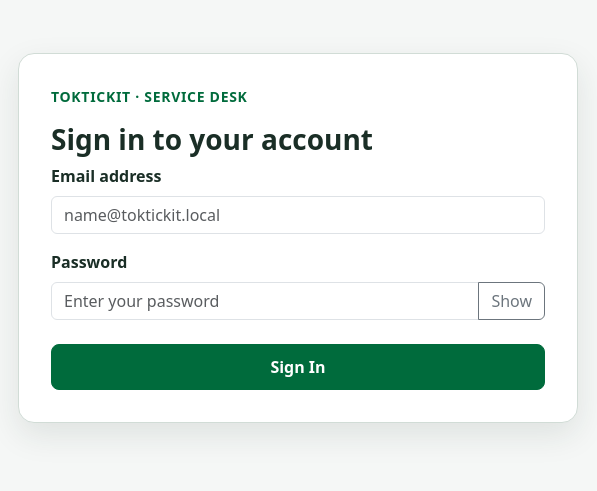
Scenario: Login Component (Work Item 3) › shows deactivated account alert when account is inactive
Type "inactive@toktickit.local" into the field labelled "Email address" at point(298, 215), box [51,196,545,234]
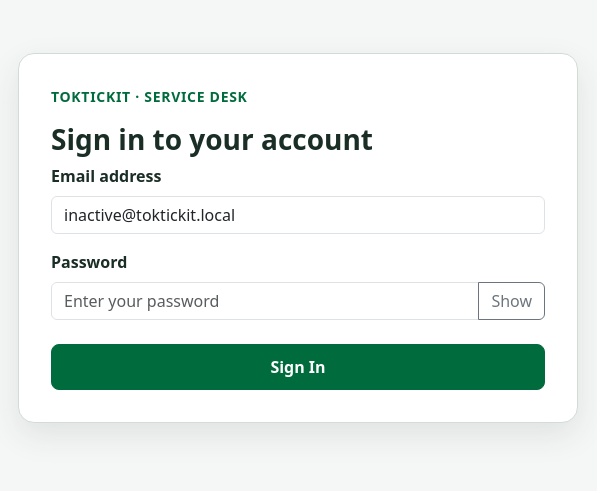
Type "Password123!" into the password field labelled "Password" at point(265, 301), box [51,282,479,320]
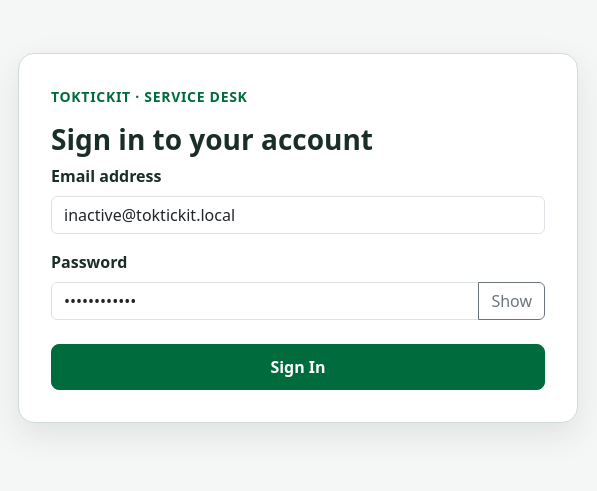
Click the button "Sign In" at point(298, 367), box [51,344,545,390]
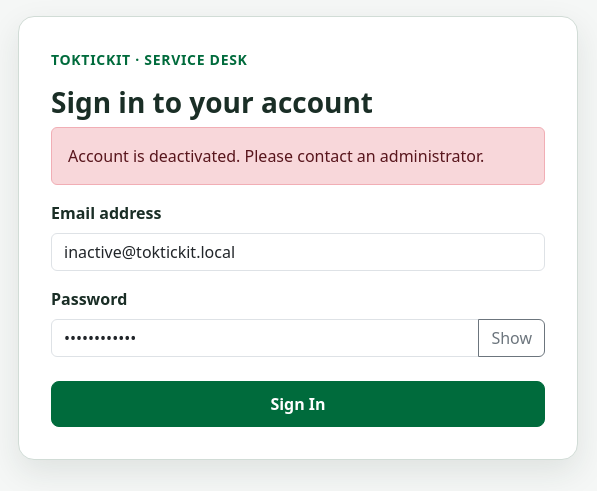
Now the message shows "Account is deactivated", box [68,145,484,167]
